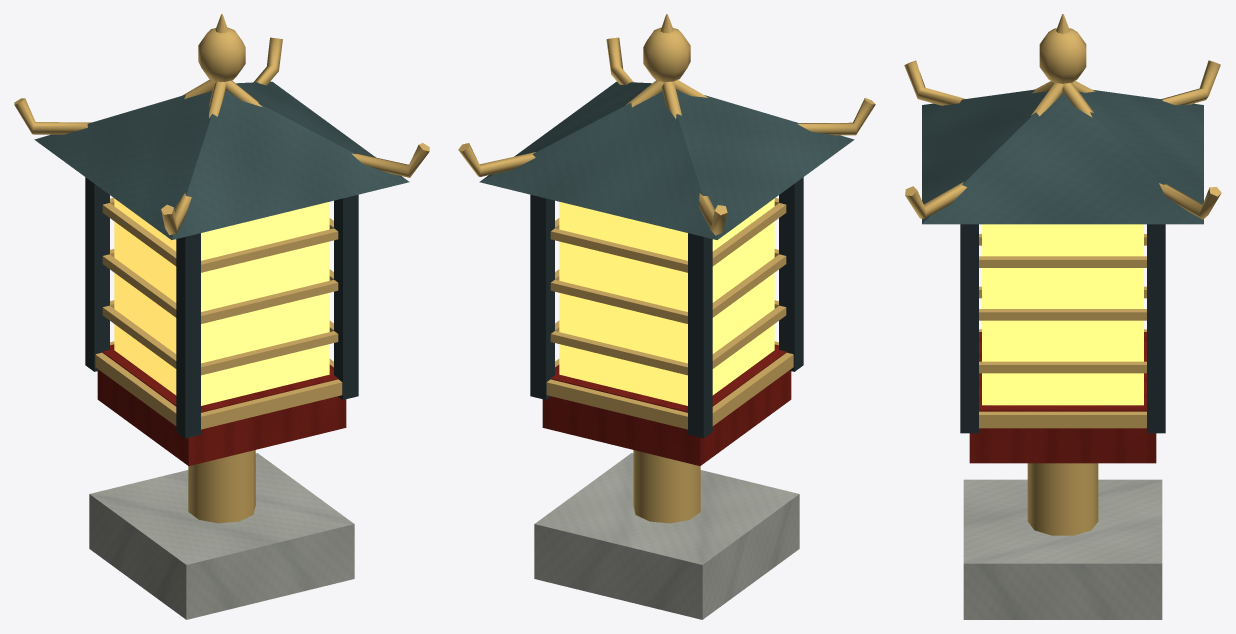
File: lantern.glb
The picture shows the model from 3 angles, left to right: view 1: azimuth 30°, elevation 25°; view 2: azimuth 150°, elevation 25°; view 3: azimuth 270°, elevation 25°; orthographic projection. The views are drawn at different scales.
Parts seen in each view (by area): view 1: lantern_Temple_Charcoal_Glazed_Tiles, lantern_Temple_Worn_Pale_Stone, lantern_Temple_Lantern_Warm_Light, lantern_Temple_Antique_Gold, lantern_Temple_Dark_Ridge_and_Iron, lantern_Temple_Red_Timber; view 2: lantern_Temple_Charcoal_Glazed_Tiles, lantern_Temple_Worn_Pale_Stone, lantern_Temple_Lantern_Warm_Light, lantern_Temple_Antique_Gold, lantern_Temple_Dark_Ridge_and_Iron, lantern_Temple_Red_Timber; view 3: lantern_Temple_Charcoal_Glazed_Tiles, lantern_Temple_Worn_Pale_Stone, lantern_Temple_Lantern_Warm_Light, lantern_Temple_Antique_Gold, lantern_Temple_Red_Timber, lantern_Temple_Dark_Ridge_and_Iron.
Part boxes in pixels (<box>): lantern_Temple_Charcoal_Glazed_Tiles: <box>34,81,409,239</box>; lantern_Temple_Worn_Pale_Stone: <box>89,453,354,619</box>; lantern_Temple_Lantern_Warm_Light: <box>114,198,329,405</box>; lantern_Temple_Antique_Gold: <box>14,14,429,523</box>; lantern_Temple_Dark_Ridge_and_Iron: <box>85,177,358,438</box>; lantern_Temple_Red_Timber: <box>97,344,346,465</box>; lantern_Temple_Charcoal_Glazed_Tiles: <box>479,81,854,239</box>; lantern_Temple_Worn_Pale_Stone: <box>534,453,799,619</box>; lantern_Temple_Lantern_Warm_Light: <box>559,198,774,405</box>; lantern_Temple_Antique_Gold: <box>458,14,875,523</box>; lantern_Temple_Dark_Ridge_and_Iron: <box>530,177,803,438</box>; lantern_Temple_Red_Timber: <box>542,344,791,465</box>; lantern_Temple_Charcoal_Glazed_Tiles: <box>922,89,1203,224</box>; lantern_Temple_Worn_Pale_Stone: <box>963,479,1162,619</box>; lantern_Temple_Lantern_Warm_Light: <box>982,224,1143,405</box>; lantern_Temple_Antique_Gold: <box>904,14,1221,535</box>; lantern_Temple_Red_Timber: <box>969,332,1156,463</box>; lantern_Temple_Dark_Ridge_and_Iron: <box>960,224,1165,433</box>.
Size of the model in its own units: 0.7662 by 1.5 by 0.7662.
Materials: 6 (3 with a texture image).
